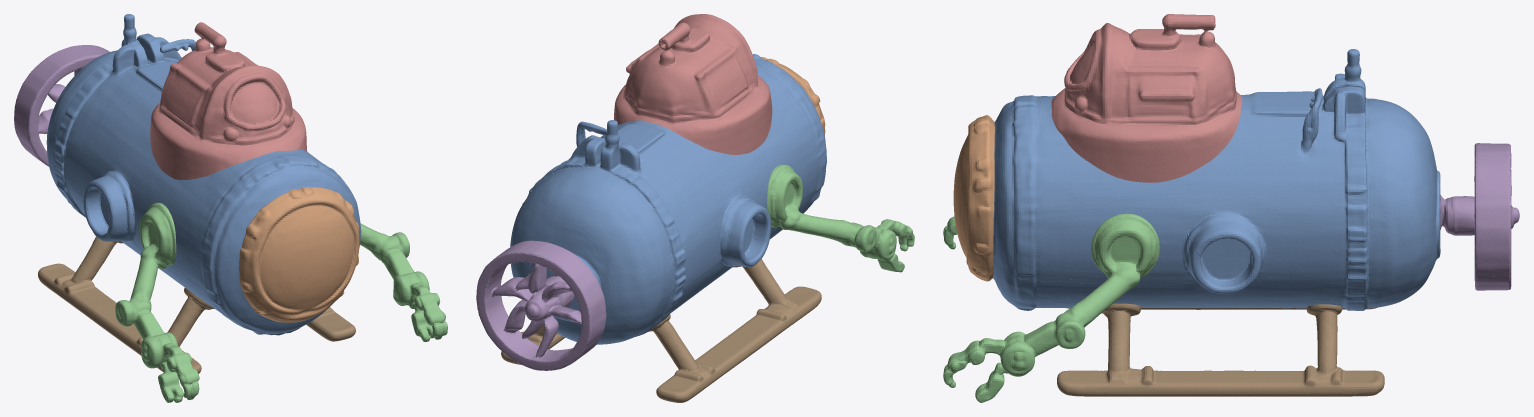
The model's file is deep_sea_sub_1.glb.
3 views of the same model, side by side, from view 1: azimuth 30°, elevation 25°; view 2: azimuth 150°, elevation 25°; view 3: azimuth 270°, elevation 25° (orthographic). The views are drawn at different scales.
Visible parts, largest first — view 1: Pressure_hull, top_hatch, domed_viewport, manipulator_robot_arms, skid_legs, rear_propeller; view 2: Pressure_hull, top_hatch, rear_propeller, skid_legs, manipulator_robot_arms, domed_viewport; view 3: Pressure_hull, top_hatch, skid_legs, manipulator_robot_arms, rear_propeller, domed_viewport.
Boxes of the visible parts, box(x1,y1,x2,y2) form: Pressure_hull: box(46, 14, 361, 335); top_hatch: box(150, 22, 307, 179); domed_viewport: box(239, 187, 359, 322); manipulator_robot_arms: box(115, 202, 447, 402); skid_legs: box(38, 237, 355, 373); rear_propeller: box(14, 45, 109, 166); Pressure_hull: box(510, 54, 826, 344); top_hatch: box(614, 14, 772, 154); rear_propeller: box(476, 240, 606, 370); skid_legs: box(501, 259, 821, 402); manipulator_robot_arms: box(766, 164, 914, 272); domed_viewport: box(761, 57, 825, 135); Pressure_hull: box(993, 49, 1440, 310); top_hatch: box(1051, 14, 1242, 182); skid_legs: box(1057, 303, 1384, 396); manipulator_robot_arms: box(943, 213, 1159, 402); rear_propeller: box(1440, 143, 1519, 290); domed_viewport: box(953, 115, 994, 281).
Size of the model in its own units: 1.25 by 1.21 by 1.91.
